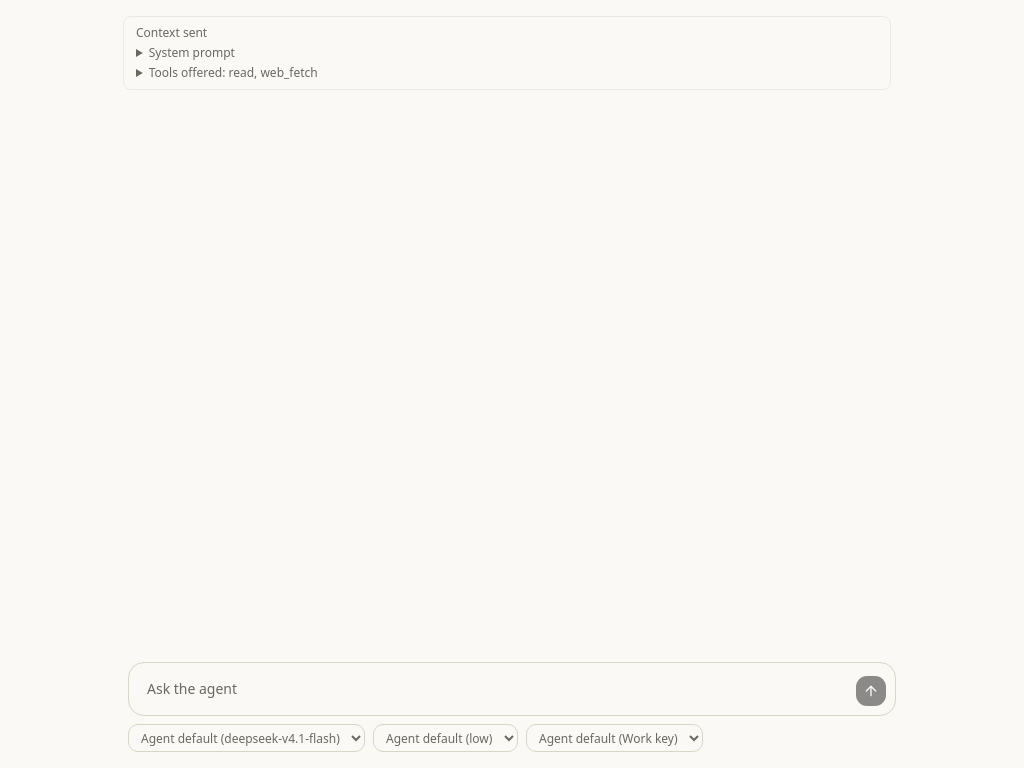
Test: ChatPane › renders recorded system context collapsed and expands the exact prompt text
Expected: the text "Context sent" is shown, x1=136 y1=24 x2=207 y2=41
What coordinates should you click on to do the following:
click the heading "System prompt"
I would click on:
 (192, 52)
Its box is x1=149 y1=44 x2=235 y2=61.
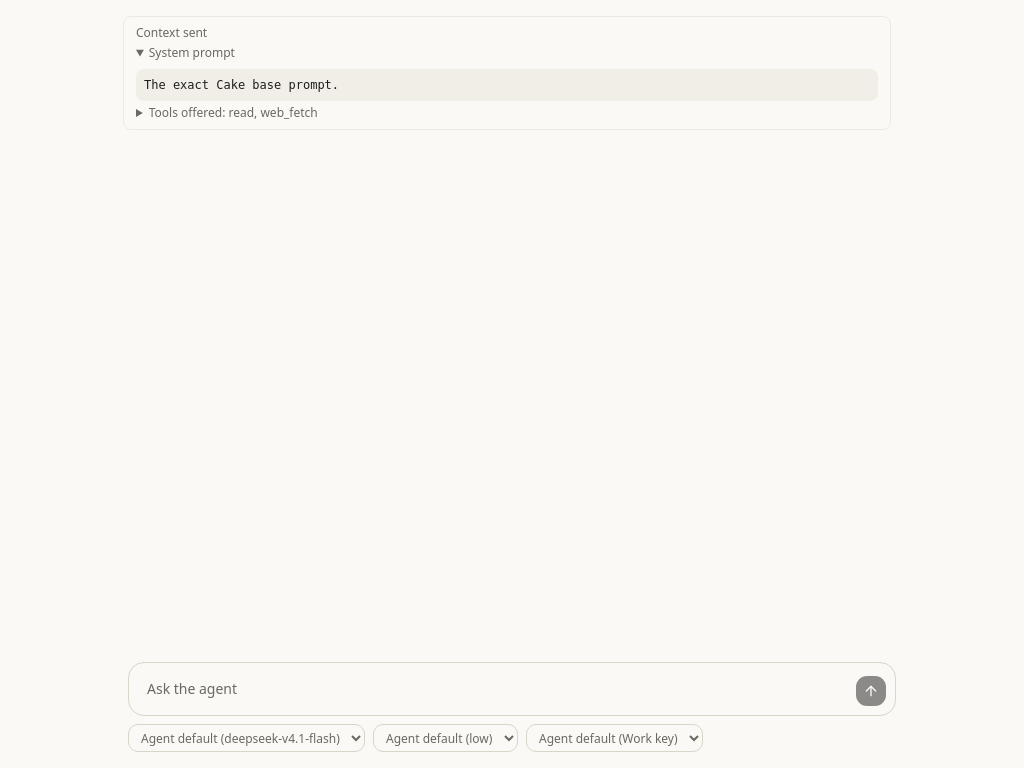
Expected: the heading "Tools offered: read, web_fetch" is shown, x1=149 y1=104 x2=318 y2=121
Expected: the text "The exact Cake base prompt." is shown, x1=136 y1=69 x2=878 y2=101
